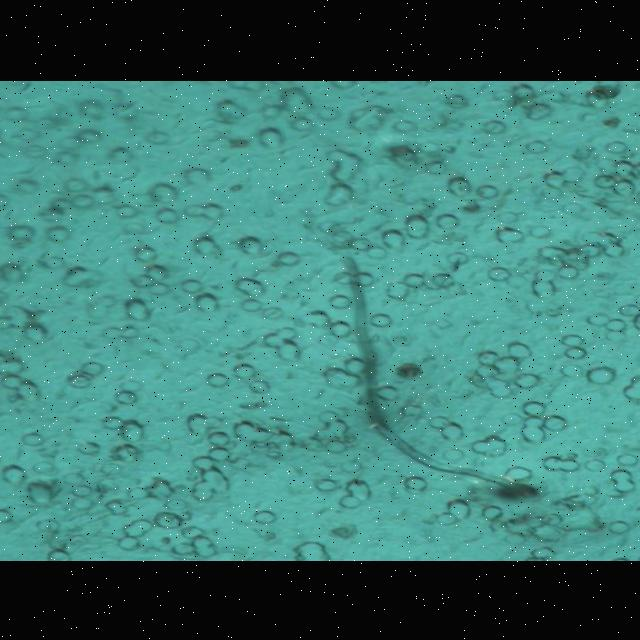Fibre: (324, 254, 544, 501)
